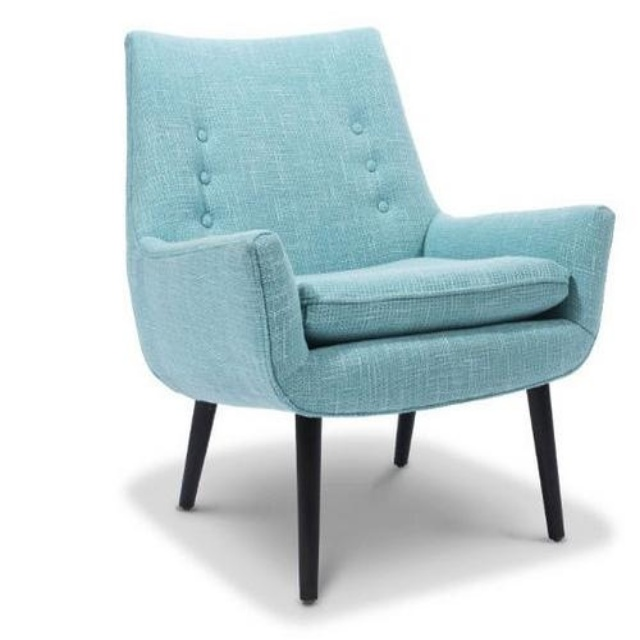obstacle: (127, 29, 613, 602)
